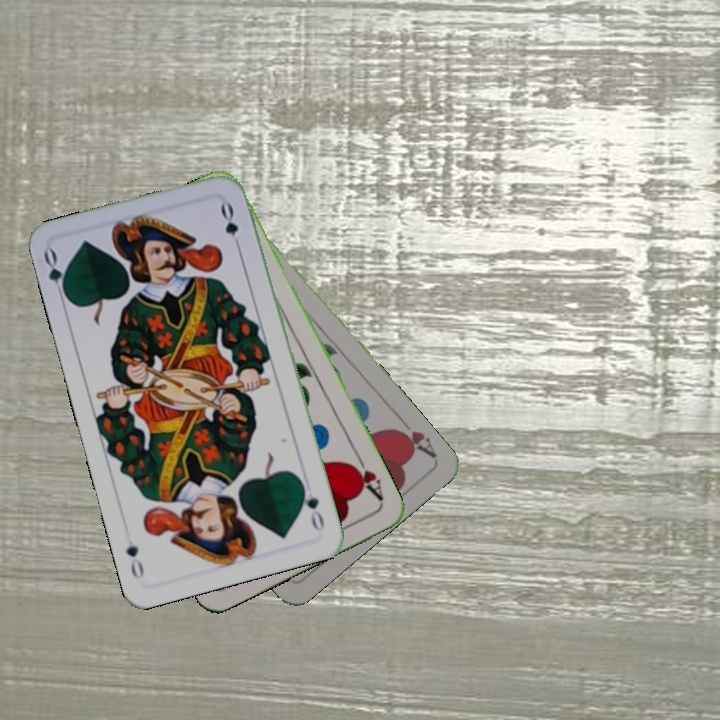GO: (39, 245, 71, 304), (297, 477, 327, 533)
HA: (389, 412, 439, 461), (345, 451, 386, 504)
